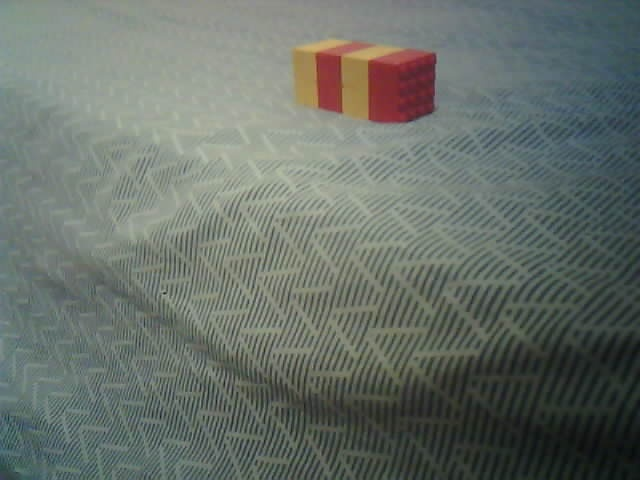lego: (291, 38, 437, 126)
